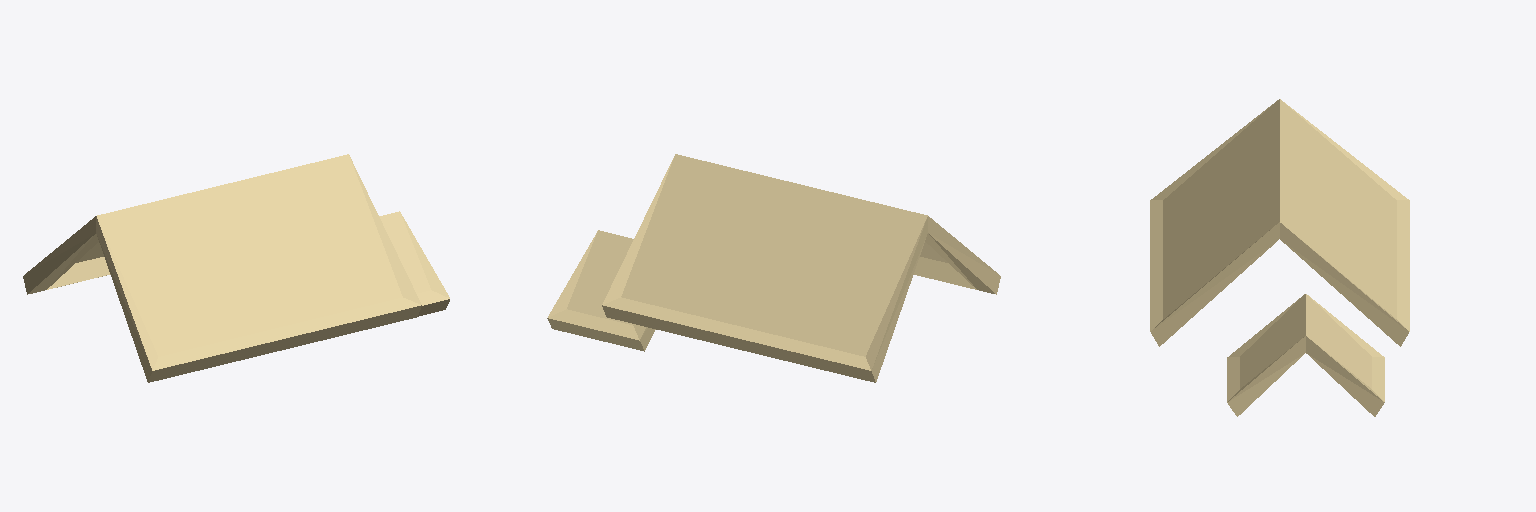
File: wfc_module_20.obj
3 views of the same model, side by side, from view 1: azimuth 30°, elevation 25°; view 2: azimuth 150°, elevation 25°; view 3: azimuth 270°, elevation 25° (orthographic).
Size of the model in its own units: 0.551 by 0.248 by 0.3673.